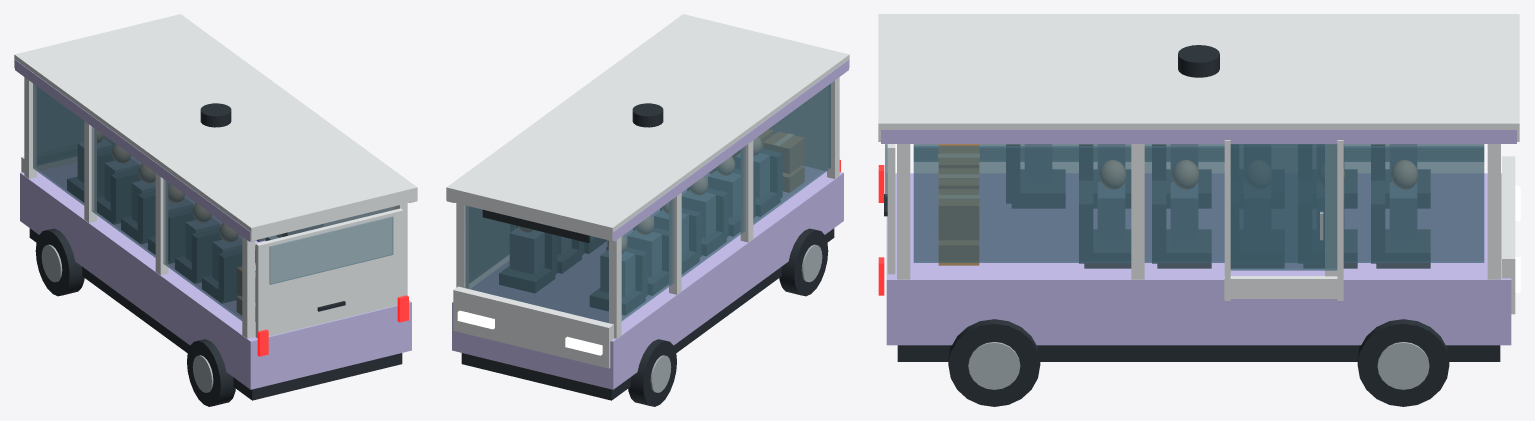
Rendered from drt-purple.glb.
The picture shows the model from 3 angles, left to right: view 1: azimuth 30°, elevation 25°; view 2: azimuth 150°, elevation 25°; view 3: azimuth 270°, elevation 25°; orthographic projection. The views are drawn at different scales.
Parts seen in each view (by area): view 1: ROOF, LowerBody, Window, HatchBody, Pillar (×5), SeatBack (×6), RearWindow, Wheel (×2), Chassis, RoofRail, Windshield, Body (×5) (+2 smaller); view 2: ROOF, LowerBody, Window (×2), Windshield, FrontFace, Body (×7), Pillar (×5), Wheel (×2), SeatBase (×6), Chassis, SeatBack (×5), RoofRail (+6 smaller); view 3: ROOF, Window (×2), LowerBody, DoorGlass, Wheel (×2), RoofRail, SeatBase (×7), Pillar (×4), Chassis, Body (×4), Box (×4), WheelHub (×2) (+7 smaller).
Boxes of the visible parts, x1,y1,x2,y2 form: ROOF: (14, 14, 417, 241); LowerBody: (20, 156, 411, 389); Window: (33, 83, 242, 320); HatchBody: (255, 208, 403, 337); Pillar (×5): (24, 77, 407, 338); SeatBack (×6): (97, 149, 255, 300); RearWindow: (269, 216, 393, 284); Wheel (×2): (35, 228, 235, 406); Chassis: (29, 228, 402, 400); RoofRail: (15, 59, 256, 241); Windshield: (37, 87, 114, 165); Body (×5): (78, 138, 241, 281); ROOF: (446, 14, 849, 241); LowerBody: (452, 165, 843, 389); Window (×2): (469, 83, 830, 320); Windshield: (464, 205, 608, 322); FrontFace: (453, 286, 613, 368); Body (×7): (510, 153, 769, 296); Pillar (×5): (456, 77, 839, 338); Wheel (×2): (628, 228, 828, 406); SeatBase (×6): (499, 191, 780, 315); Chassis: (461, 228, 834, 400); SeatBack (×5): (516, 149, 782, 296); RoofRail: (607, 59, 848, 241); ROOF: (878, 14, 1519, 141); Window (×2): (913, 144, 1484, 262); LowerBody: (886, 173, 1511, 345); DoorGlass: (1230, 144, 1337, 270); Wheel (×2): (948, 319, 1449, 406); RoofRail: (881, 130, 1516, 143); SeatBase (×7): (1012, 169, 1430, 268); Pillar (×4): (897, 144, 1500, 279); Chassis: (897, 345, 1500, 361); Body (×4): (1024, 144, 1416, 245); Box (×4): (938, 148, 979, 265); WheelHub (×2): (968, 342, 1429, 389).
Size of the model in its own units: 2.52 by 2.94 by 5.81.
